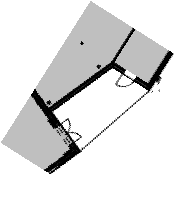door: (113, 71, 136, 89)
double door: (58, 116, 82, 144)
